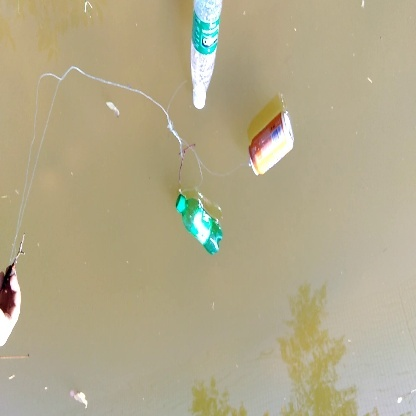bottle: (182, 2, 225, 111), (172, 193, 227, 258), (244, 111, 297, 178)
